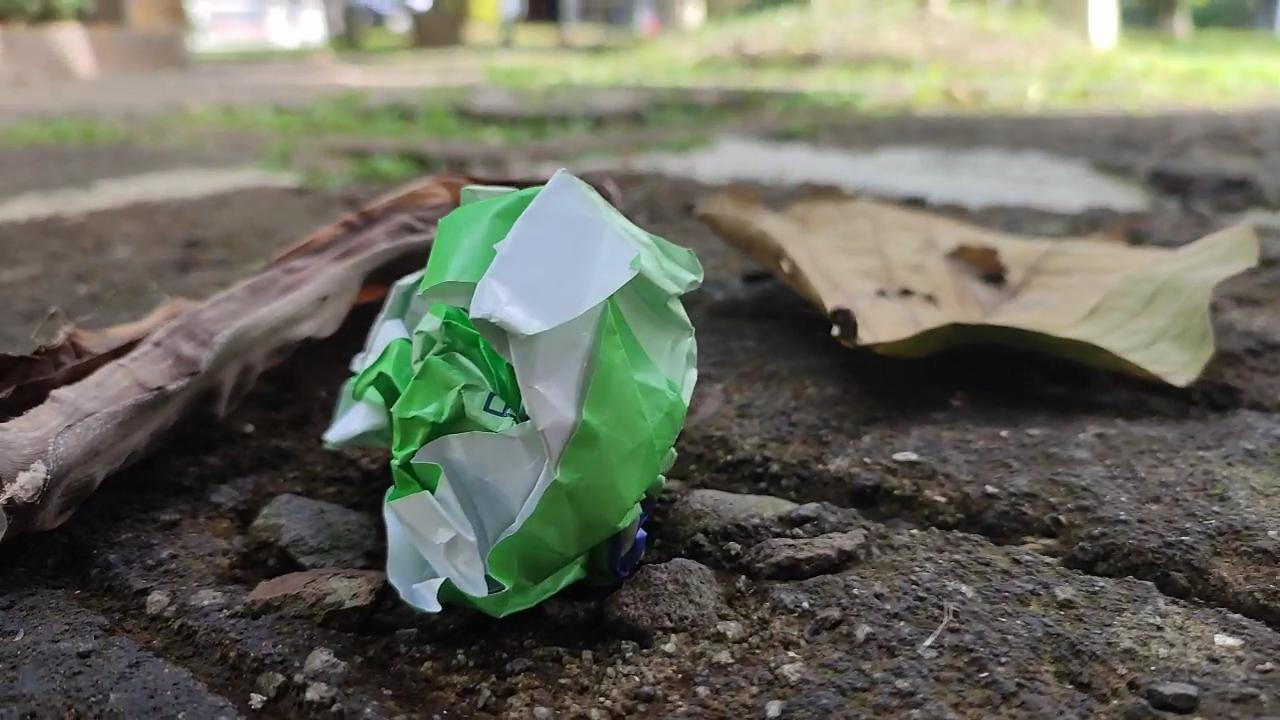Paper: (313, 174, 699, 618)
